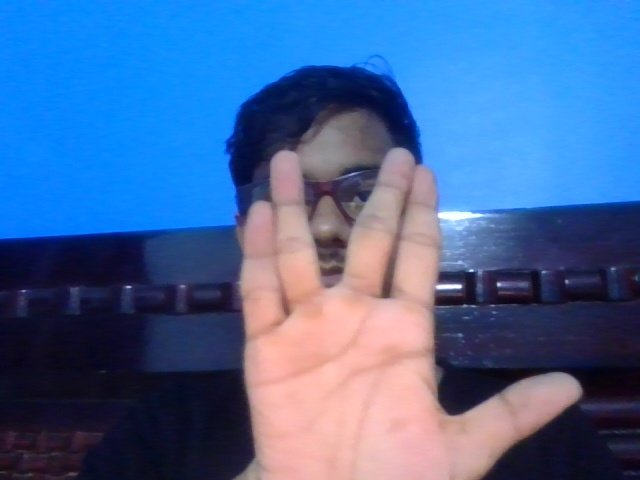LiveLong: (226, 139, 586, 480)
